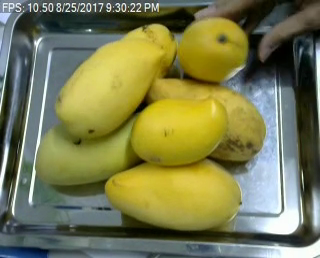Mango: (52, 38, 164, 134), (102, 156, 242, 231), (146, 77, 265, 164), (35, 109, 152, 183), (132, 97, 228, 165), (177, 15, 248, 84), (119, 25, 177, 73)
